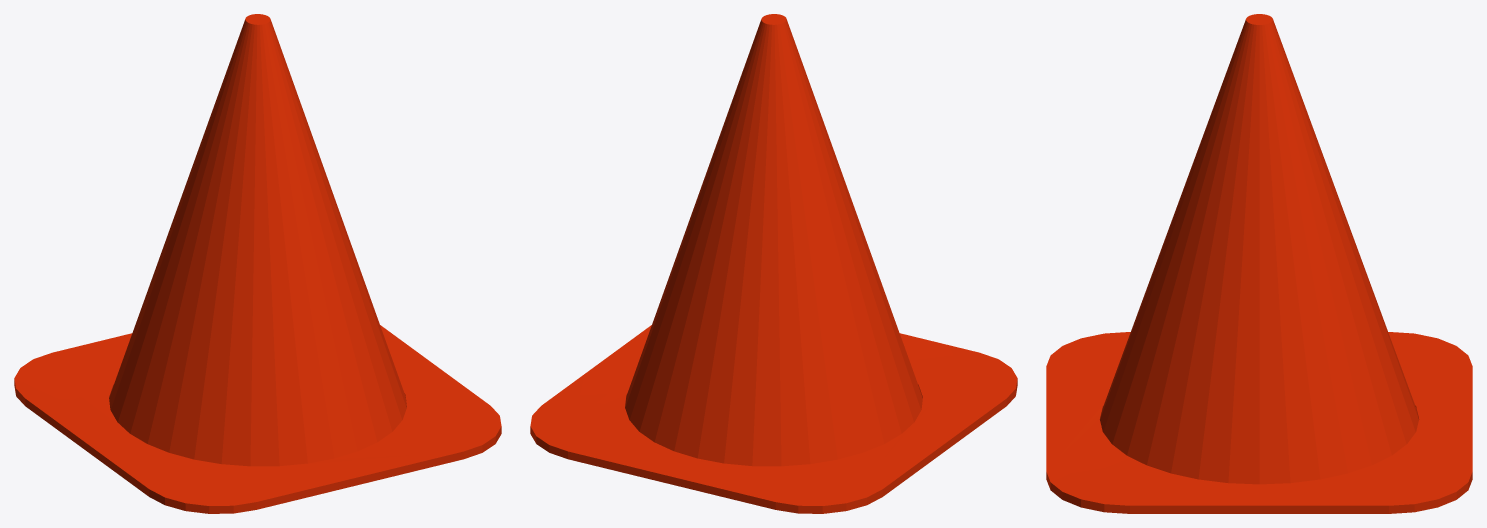
The model's file is cone-red.glb.
The picture shows the model from 3 angles, left to right: view 1: azimuth 30°, elevation 25°; view 2: azimuth 150°, elevation 25°; view 3: azimuth 270°, elevation 25°; orthographic projection. The views are drawn at different scales.
Parts seen in each view (by area): view 1: Cone_Red; view 2: Cone_Red; view 3: Cone_Red.
Boxes of the visible parts, x1,y1,x2,y2 form: Cone_Red: [14, 14, 501, 513]; Cone_Red: [530, 14, 1017, 513]; Cone_Red: [1046, 14, 1472, 513].
Size of the model in its own units: 1.75 by 1.92 by 1.82.
